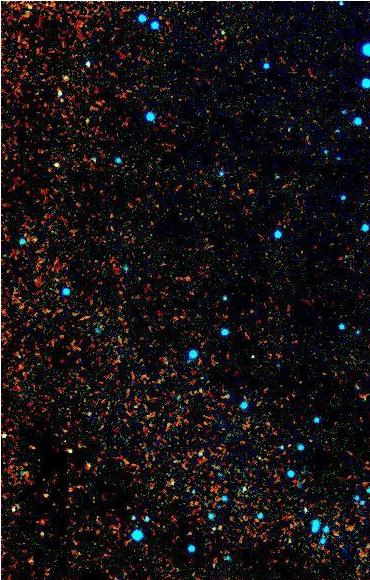star: (203, 516, 233, 546)
